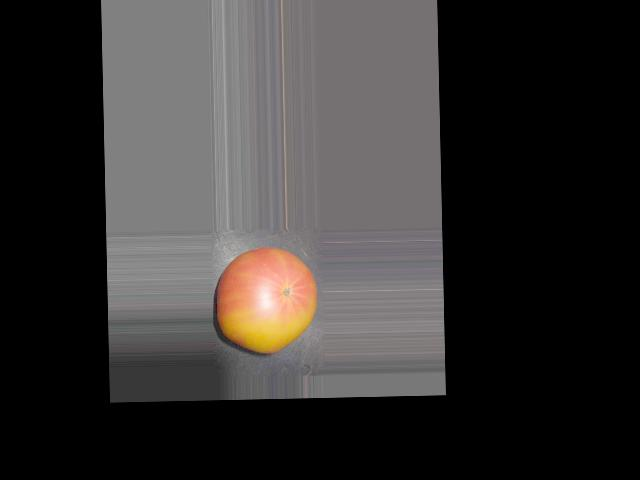tomato: (214, 246, 318, 353)
